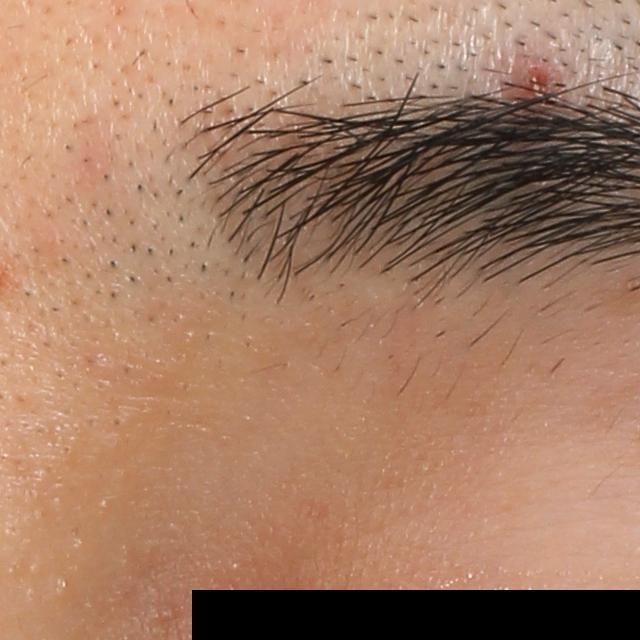papule: (516, 57, 561, 101)
